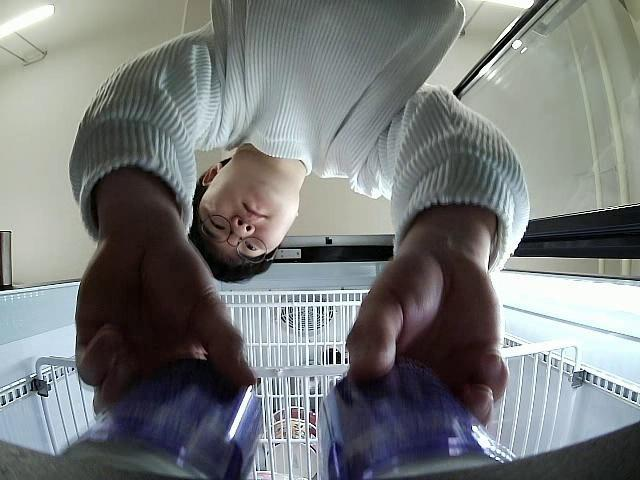14_welchsGrape: (56, 351, 261, 480), (318, 367, 514, 480)
